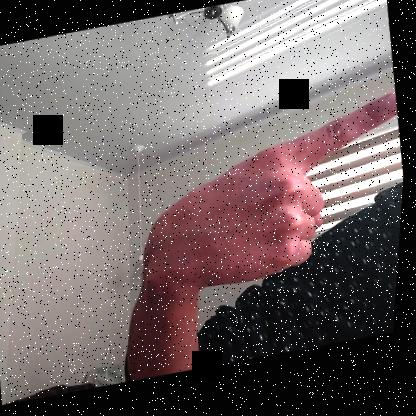G: (130, 91, 410, 301)
